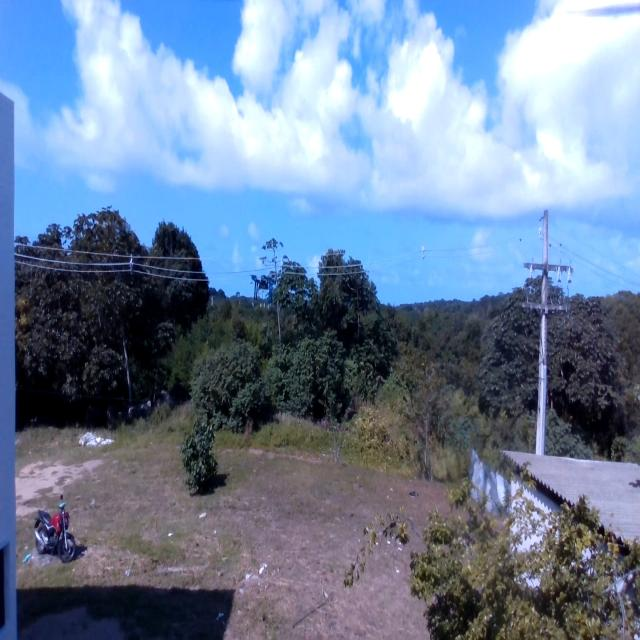-uav-: (242, 268, 283, 319)
